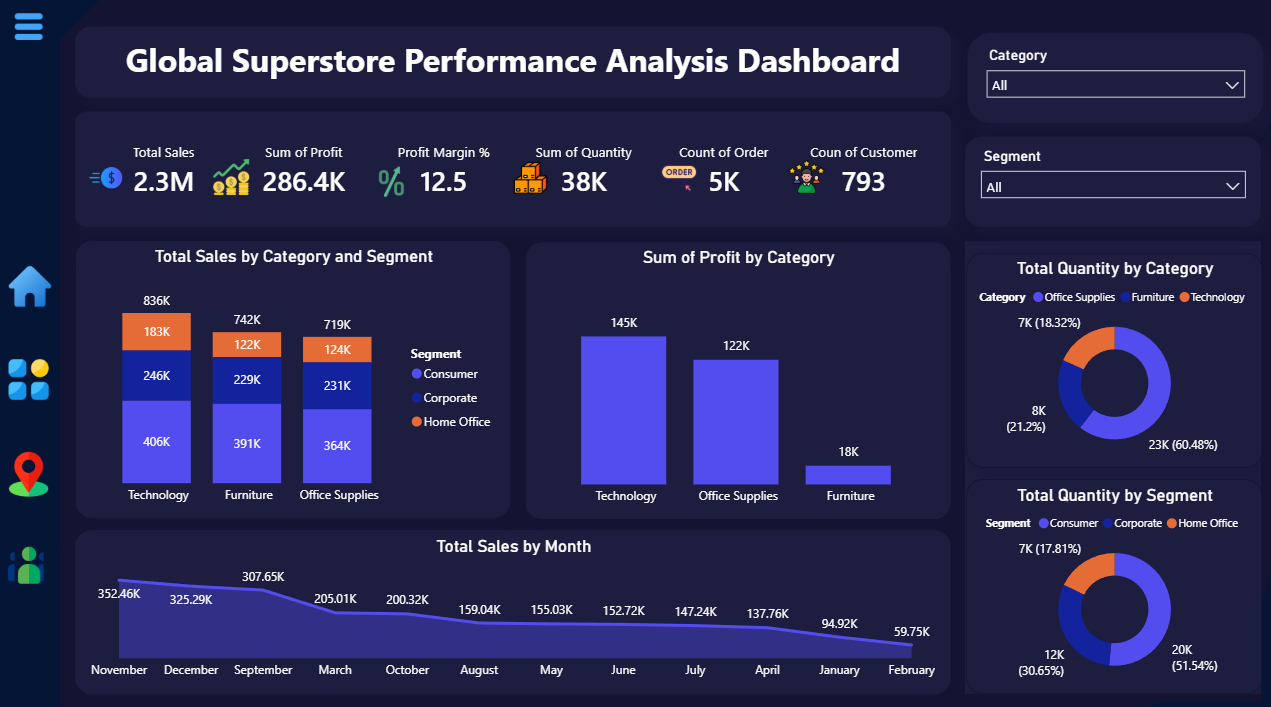

Layout of this report page (visuals, bound fields, positions):
{"tool":"powerbi","page":{"name":"Category","canvas":[1280,720],"ordinal":1},"visuals":[{"type":"shape","box":[65,0,1215,720],"z":0},{"type":"shape","box":[1093.8,578.8,172.5,128.8],"z":1000},{"type":"shape","box":[1107.5,0,172.5,128.8],"z":2000},{"type":"shape","box":[65,0,300,183.8],"z":3000},{"type":"cardVisual","fields":{"Data":["Sum(Data.Sales)","Sum(Data.Profit)","Data.Profit Margin %","Sum(Data.Quantity)","Count(Data.Order ID)","Count(Customer.Customer ID)"]},"box":[80,117.5,876.2,115],"z":4000},{"type":"image","box":[11.2,16.2,45,32.5],"z":5000},{"type":"image","box":[11.2,456.2,45,47.5],"z":7000},{"type":"slicer","fields":{"Values":["Product.Category Image"]},"box":[972.5,38.8,296.2,90],"z":8000},{"type":"shape","box":[970,247.5,296.2,452.5],"z":9000},{"type":"shape","box":[65,503.8,300,216.2],"z":10000},{"type":"lineChart","title":"Total Sales by Month ","fields":{"Y":["Sum(Data.Sales)"],"Category":["Date dim.Month Name"]},"box":[80,536.2,876.2,163.8],"z":11000},{"type":"columnChart","title":"Total Sales by Category and Segment","fields":{"Y":["Sum(Data.Sales)"],"Category":["Product.Category"],"Series":["Segment.Segment"]},"box":[80,246.2,436.2,278.8],"z":12000},{"type":"columnChart","fields":{"Category":["Product.Category"],"Y":["Sum(Data.Profit)"]},"box":[530,247.5,426.2,278.8],"z":13000},{"type":"donutChart","title":"Total Quantity by Category","fields":{"Category":["Product.Category"],"Y":["Sum(Data.Quantity)"]},"box":[971.2,258.8,296.2,215],"z":14000},{"type":"donutChart","title":"Total Quantity by Segment","fields":{"Category":["Segment.Segment"],"Y":["Sum(Data.Quantity)"]},"box":[971.2,485,296.2,215],"z":15000},{"type":"image","box":[80,165,61.2,37.5],"z":16000},{"type":"image","box":[215,165,42.5,36.2],"z":17000},{"type":"image","box":[380,172.5,32.5,30],"z":18000},{"type":"image","box":[518.8,166.2,33.8,35],"z":19000},{"type":"image","box":[663.8,166.2,41.2,36.2],"z":20000},{"type":"image","box":[791.2,165,41.2,36.2],"z":21000},{"type":"slicer","fields":{"Values":["Segment.Segment"]},"box":[970,142.5,296.2,90],"z":22000},{"type":"textbox","box":[80,32.5,876.2,71.2],"z":23000},{"type":"image","box":[11.2,358.8,45,53.8],"z":24000},{"type":"image","box":[11.2,550,45,42.5],"z":25000},{"type":"image","box":[13.3,270.2,42.2,44.6],"z":25001}]}

Visuals, with their boxes in screenshot pixels (x1, y1, x2, y2), scaled from the page's 1280x720 canvas onto the 1271x707 screenshot:
shape: 65:0:1270:706
shape: 1086:568:1257:695
shape: 1100:0:1270:126
shape: 65:0:362:180
cardVisual - Sum(Data.Sales) x Sum(Data.Profit): 79:115:949:228
image: 11:16:56:48
image: 11:448:56:495
slicer - Product.Category Image: 966:38:1260:126
shape: 963:243:1257:687
shape: 65:495:362:706
"Total Sales by Month " lineChart: 79:527:949:687
"Total Sales by Category and Segment" columnChart: 79:242:513:516
columnChart - Product.Category x Sum(Data.Profit): 526:243:949:517
"Total Quantity by Category" donutChart: 964:254:1258:465
"Total Quantity by Segment" donutChart: 964:476:1258:687
image: 79:162:140:199
image: 213:162:256:198
image: 377:169:410:199
image: 515:163:549:198
image: 659:163:700:199
image: 786:162:827:198
slicer - Segment.Segment: 963:140:1257:228
textbox: 79:32:949:102
image: 11:352:56:405
image: 11:540:56:582
image: 13:265:55:309
